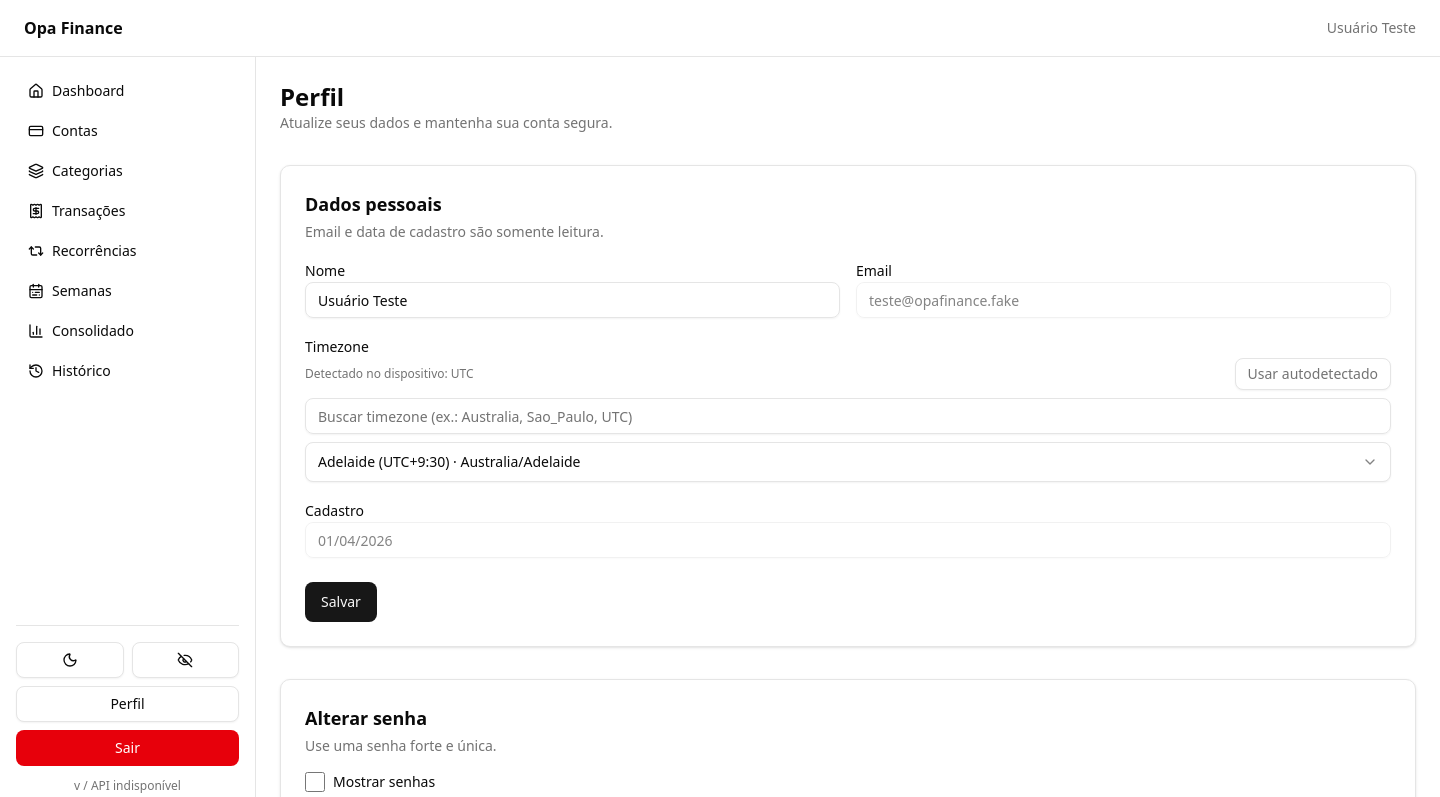
Test: profile feature › deve atualizar perfil com payload esperado
The image size is (1440, 797).
Expected: the heading "Perfil" is shown, [280,80,344,113]
Replace the text in the field labelled "Nome" with "Nome Atualizado". click: (572, 300)
box: [305,282,840,318]
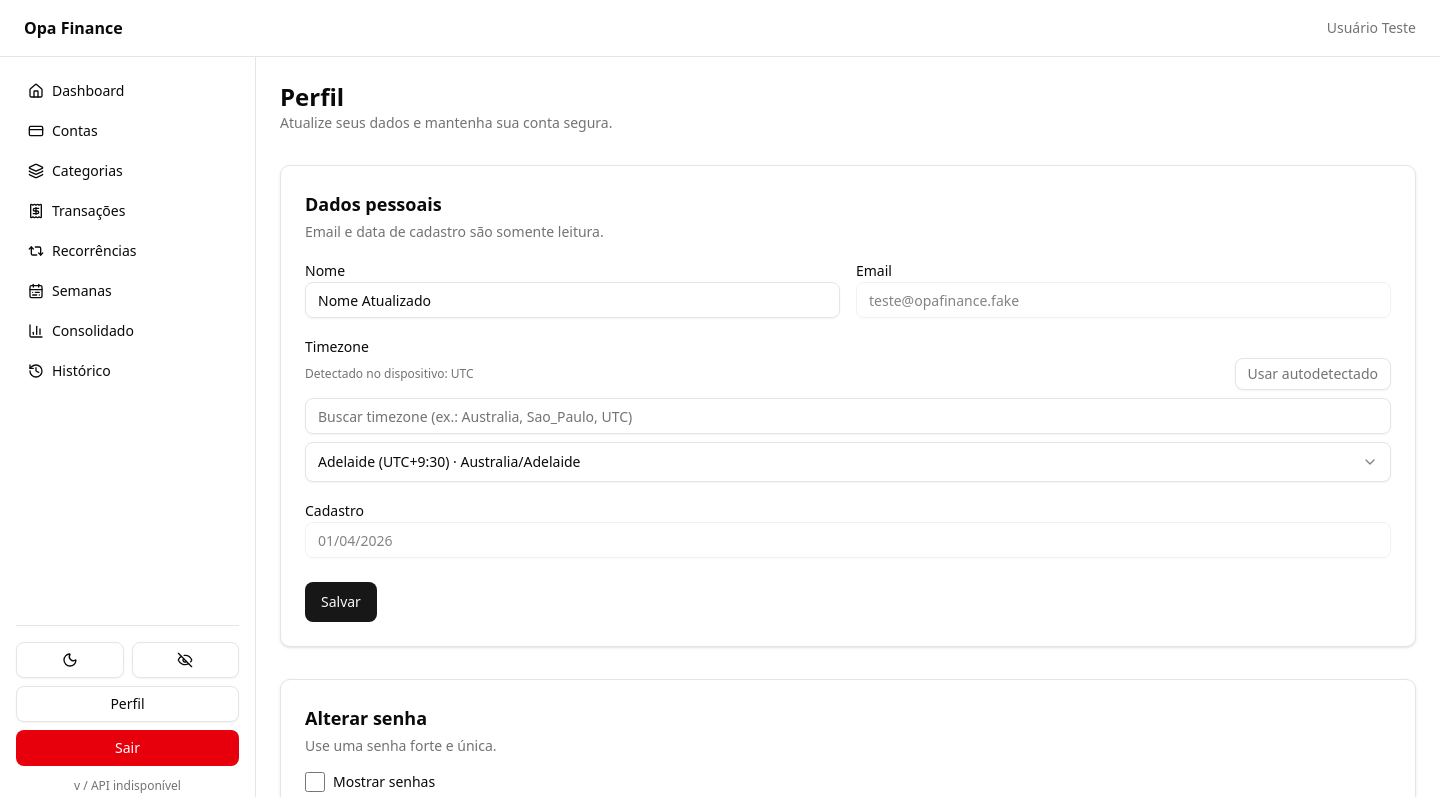
Click the button "Salvar". click: click(341, 602)
box: [305,582,377,622]
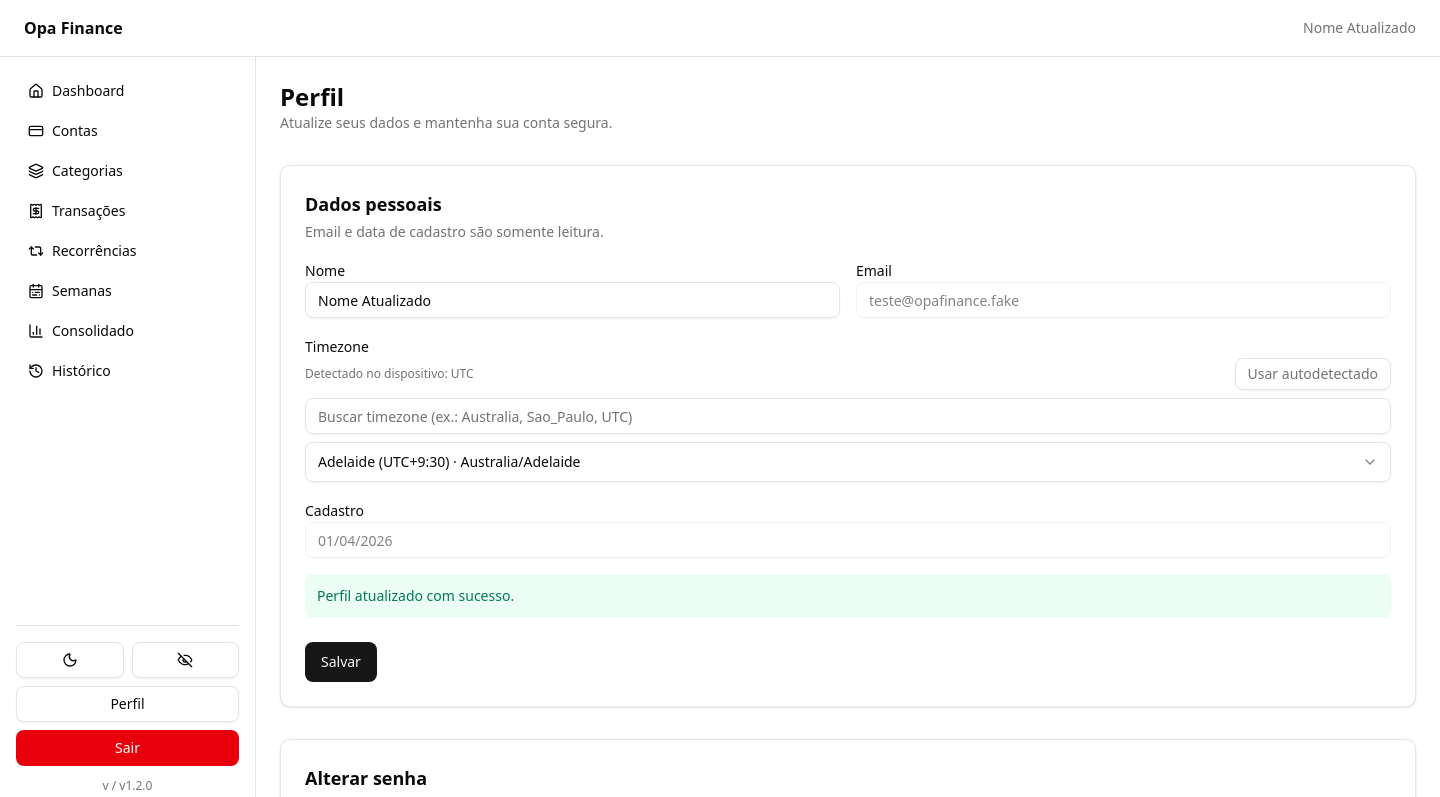
Now the text "Perfil atualizado com sucesso." is shown, box [305,574,1391,618]
